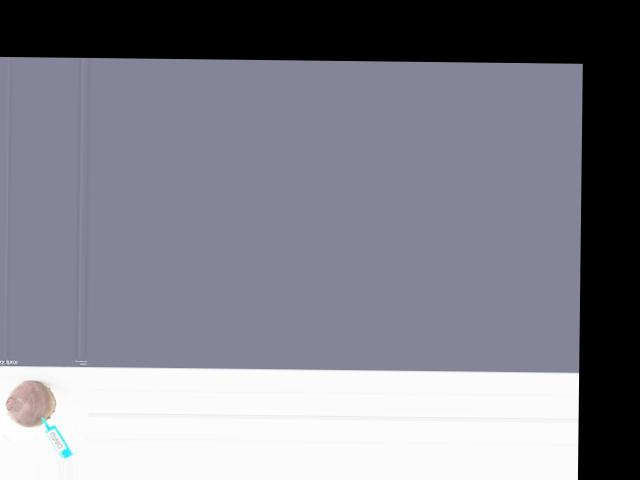beet: (6, 379, 56, 427)
